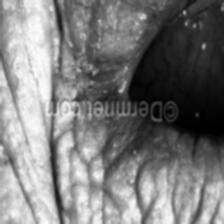Toxin: (63, 44, 127, 99)
